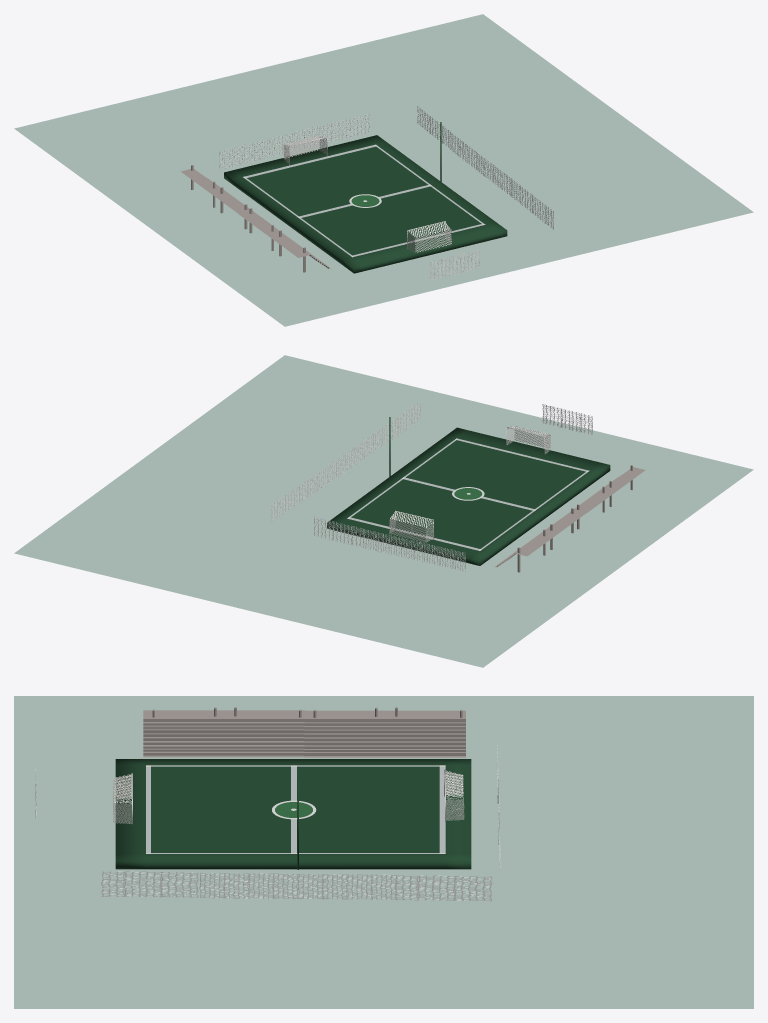
File: cancha.fbx
3 renders of one model, top to bottom at view 1: azimuth 30°, elevation 25°; view 2: azimuth 150°, elevation 25°; view 3: azimuth 270°, elevation 25°, orthographic. The views are drawn at different scales.
Parts seen in each view (by area): view 1: Plane.002, Cylinder.006, Cube.000, Cube.002, Cylinder.000, Cylinder.004; view 2: Plane.002, Cylinder.006, Cube.000, Cube.002, Cylinder.004, Cylinder.000; view 3: Plane.002, Cylinder.006, Cube.000, Cylinder.000, Cylinder.004.
Part boxes in pixels (x1,y1,x2,y2): Plane.002: (14, 14, 753, 326); Cylinder.006: (224, 122, 507, 273); Cube.000: (417, 106, 553, 280); Cube.002: (219, 114, 369, 169); Cylinder.000: (239, 208, 330, 272); Cylinder.004: (181, 165, 271, 229); Plane.002: (14, 355, 753, 667); Cylinder.006: (327, 417, 610, 565); Cube.000: (271, 401, 592, 522); Cube.002: (314, 517, 465, 571); Cylinder.004: (495, 508, 585, 572); Cylinder.000: (559, 465, 645, 529); Plane.002: (14, 696, 753, 1008); Cylinder.006: (113, 759, 471, 869); Cube.000: (35, 769, 492, 901); Cylinder.000: (143, 707, 304, 757); Cylinder.004: (304, 707, 465, 757).
Bounding box in the file's own units: 7279 × 993 × 7279.
